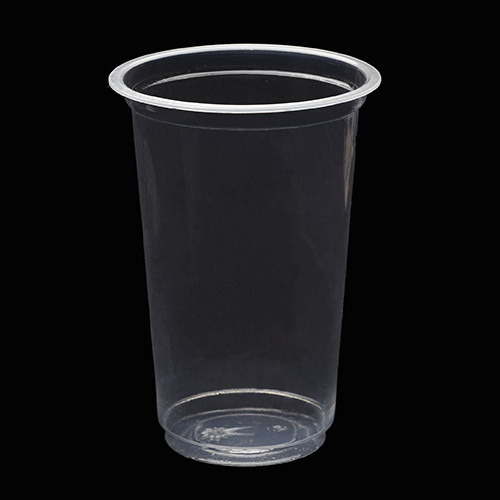plastic_bottle: (103, 37, 385, 475)
